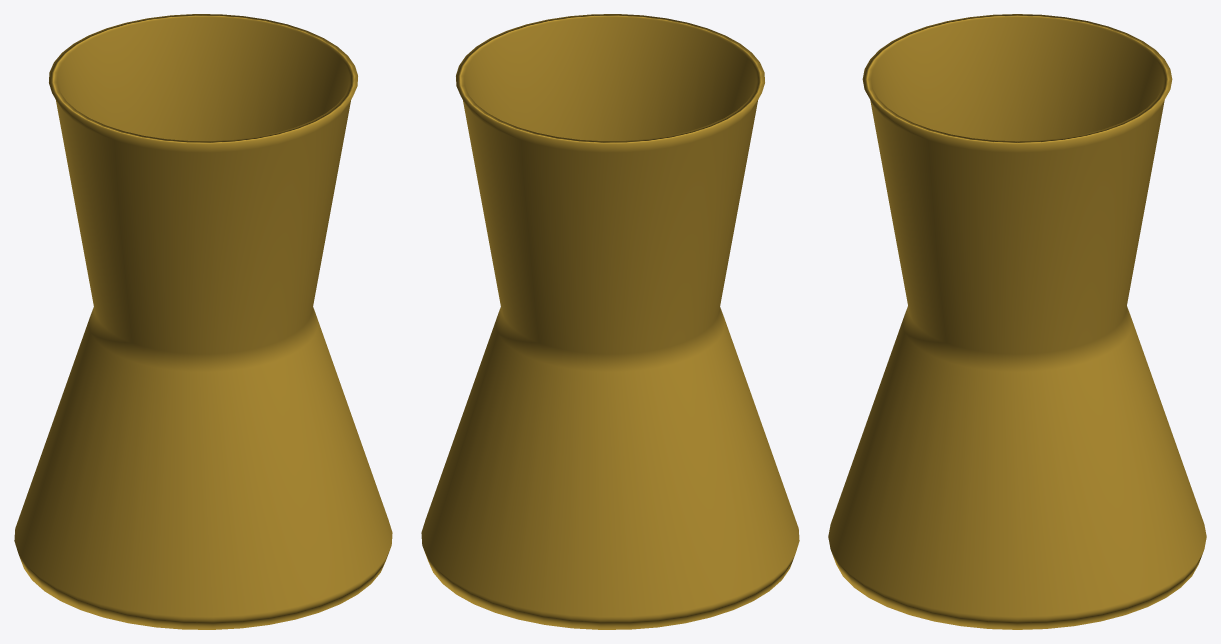
The model's file is jigger.glb.
3 renders of one model, left to right at view 1: azimuth 30°, elevation 25°; view 2: azimuth 150°, elevation 25°; view 3: azimuth 270°, elevation 25°, orthographic.
Parts seen in each view (by area): view 1: body; view 2: body; view 3: body.
Boxes of the visible parts, <box> form: body: <box>14,14,392,629</box>; body: <box>421,14,799,629</box>; body: <box>828,14,1206,629</box>.
Size of the model in its own units: 0.066 by 0.092 by 0.066.
